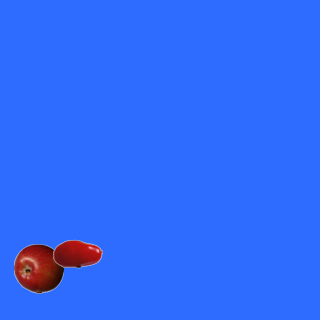Apple Braeburn: (13, 243, 63, 293)
Tomato 2: (52, 228, 102, 278)
